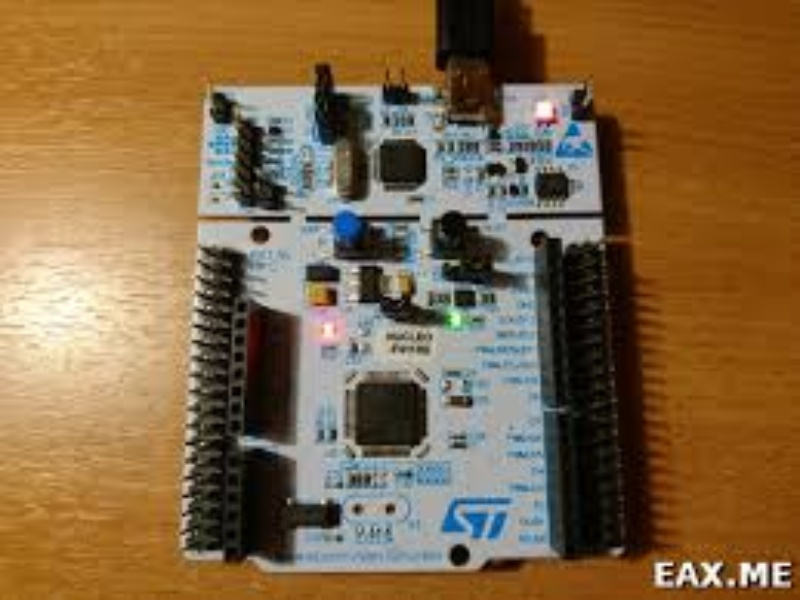stmnucleo: (187, 62, 660, 579)
